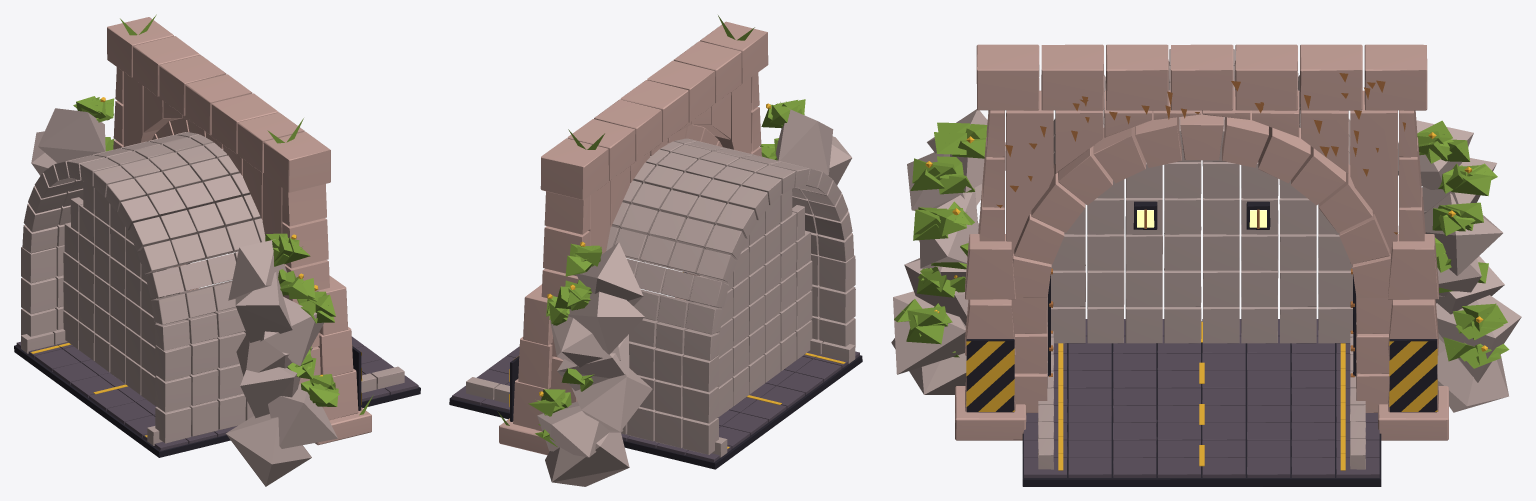
Rendered from bld.tunnel-portal.lod1.glb.
3 renders of one model, left to right at view 1: azimuth 30°, elevation 25°; view 2: azimuth 150°, elevation 25°; view 3: azimuth 270°, elevation 25°, orthographic. The views are drawn at different scales.
Visible parts, largest first — view 1: roof, body, interior, interior_end; view 2: roof, body, interior, interior_end; view 3: body, roof, interior, interior_end, lamp_R, lamp_L.
Part boxes in pixels (x1,y1,x2,y2): roof: (22,17,330,350); body: (31,14,373,486); interior: (14,245,420,457); interior_end: (63,181,187,406); roof: (540,21,854,360); body: (497,15,855,486); interior: (449,253,862,469); interior_end: (686,189,812,417); body: (891,109,1521,440); roof: (976,44,1427,297); interior: (1022,268,1381,486); interior_end: (1051,149,1352,343); lamp_R: (1246,201,1270,229); lamp_L: (1133,201,1157,229).
Bounding box in the file's own units: 7.29 × 8.68 × 12.29.
